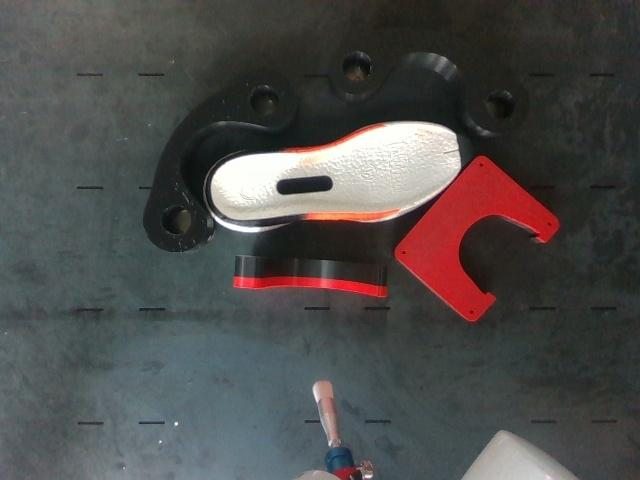shoes: (208, 124, 472, 220)
